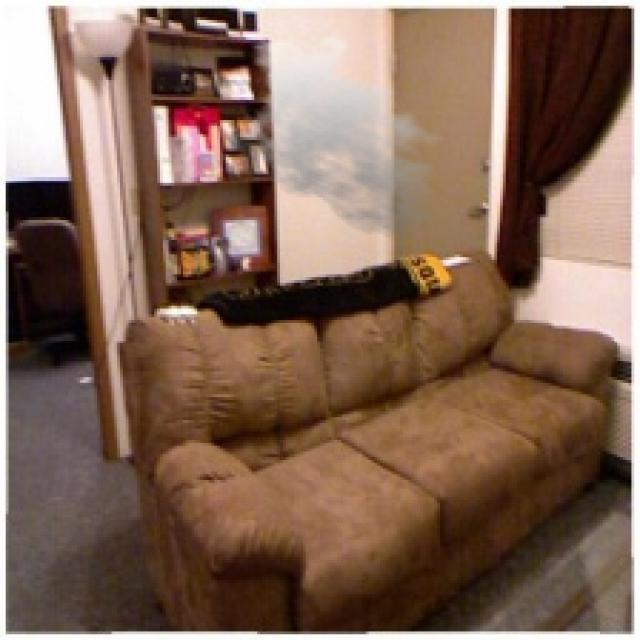smoke: (240, 34, 454, 240)
